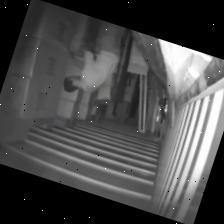person: (64, 21, 125, 91)
